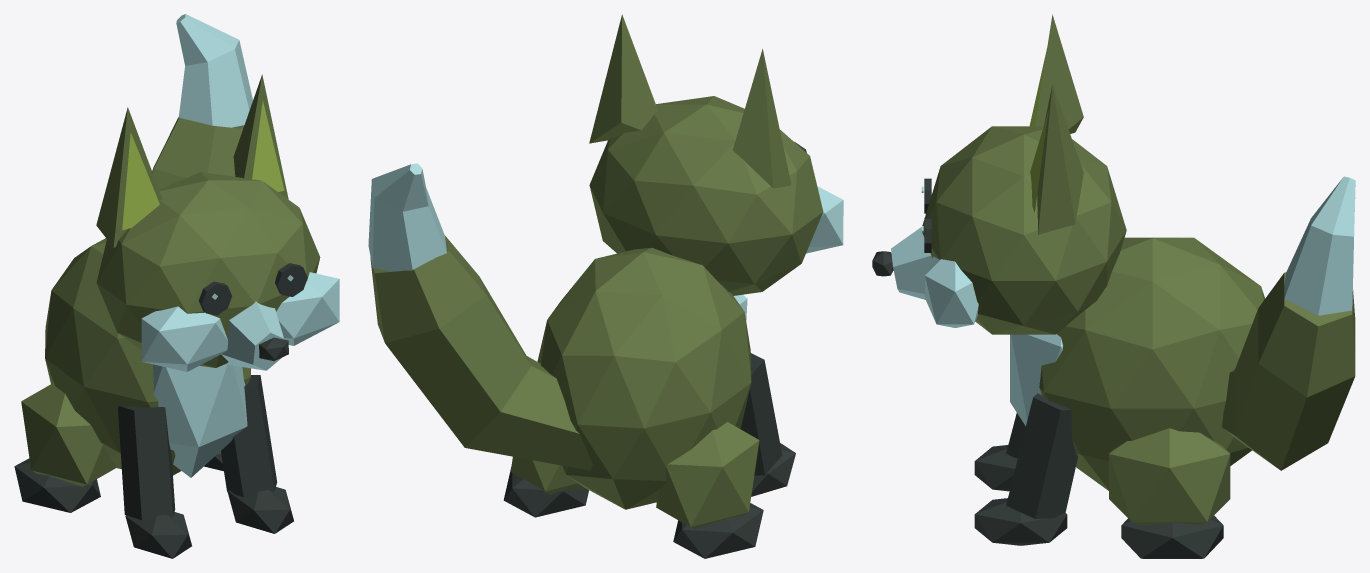
3 views of the same model, side by side, from view 1: azimuth 30°, elevation 25°; view 2: azimuth 150°, elevation 25°; view 3: azimuth 270°, elevation 25° (orthographic). The views are drawn at different scales.
Visible parts, largest first — view 1: Cabeça, Corpo sentado, Peito, Ponta da cauda, Anca.001, Pata dianteira, Bochecha clara.001, Cauda volumosa, Pata dianteira.001, Bochecha clara, Orelha triangular, Focinho (+9 smaller); view 2: Corpo sentado, Cabeça, Cauda volumosa, Anca.001, Ponta da cauda, Orelha triangular.001, Orelha triangular, Pé traseiro, Pata dianteira, Pé traseiro.001, Bochecha clara.001, Anca (+1 smaller); view 3: Corpo sentado, Cabeça, Cauda volumosa, Anca, Ponta da cauda, Pata dianteira.001, Orelha triangular.001, Pé traseiro.001, Bochecha clara, Peito, Pé dianteiro.001, Orelha triangular (+3 smaller).
Boxes of the visible parts, x1,y1,x2,y2 form: Cabeça: [96, 172, 320, 367]; Corpo sentado: [45, 238, 250, 475]; Peito: [153, 363, 247, 477]; Ponta da cauda: [176, 14, 252, 127]; Anca.001: [21, 383, 117, 486]; Pata dianteira: [118, 406, 175, 520]; Bochecha clara.001: [141, 306, 227, 371]; Cauda volumosa: [152, 117, 244, 189]; Pata dianteira.001: [221, 375, 277, 497]; Bochecha clara: [276, 272, 339, 345]; Orelha triangular: [96, 107, 162, 247]; Focinho: [221, 301, 283, 370]; Corpo sentado: [537, 247, 751, 509]; Cabeça: [589, 96, 823, 295]; Cauda volumosa: [370, 235, 592, 470]; Anca.001: [656, 422, 759, 528]; Ponta da cauda: [368, 163, 446, 271]; Orelha triangular.001: [589, 14, 657, 143]; Orelha triangular: [733, 49, 791, 188]; Pé traseiro: [673, 503, 763, 558]; Pata dianteira: [740, 353, 782, 475]; Pé traseiro.001: [503, 467, 588, 517]; Bochecha clara.001: [806, 186, 843, 253]; Anca: [510, 456, 584, 494]; Corpo sentado: [1039, 237, 1264, 490]; Cabeça: [922, 126, 1126, 334]; Cauda volumosa: [1222, 272, 1355, 470]; Anca: [1109, 428, 1230, 525]; Ponta da cauda: [1284, 176, 1355, 315]; Pata dianteira.001: [1006, 393, 1078, 518]; Orelha triangular.001: [1037, 84, 1083, 234]; Pé traseiro.001: [1121, 515, 1223, 558]; Bochecha clara: [925, 256, 978, 327]; Peito: [1010, 334, 1062, 426]; Pé dianteiro.001: [974, 498, 1067, 545]; Orelha triangular: [1035, 14, 1083, 133].
Bounding box in the file's own units: 1.3 × 1.81 × 1.69.
